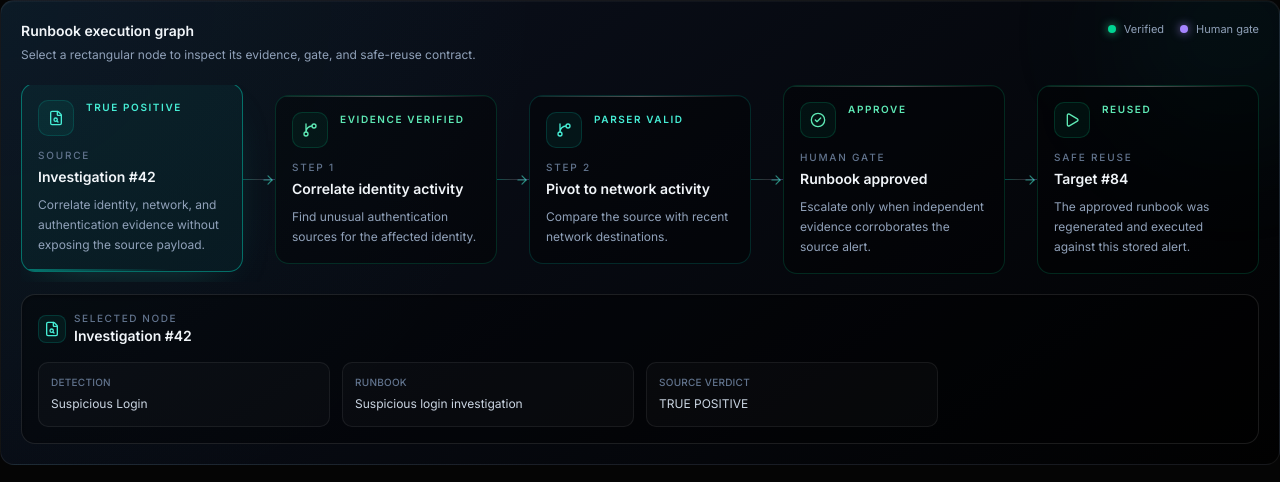
Scenario: RunbookFlowGraph › updates the gate and target nodes after an approved reuse
This screenshot has width=1280, height=482.
Expected: the button with aria-label "Human gate: Runbook approved" is shown, [783, 85, 1005, 274]
Click the button with aria-label "Safe reuse: Target #84" at (1148, 180), box [1037, 85, 1259, 274]
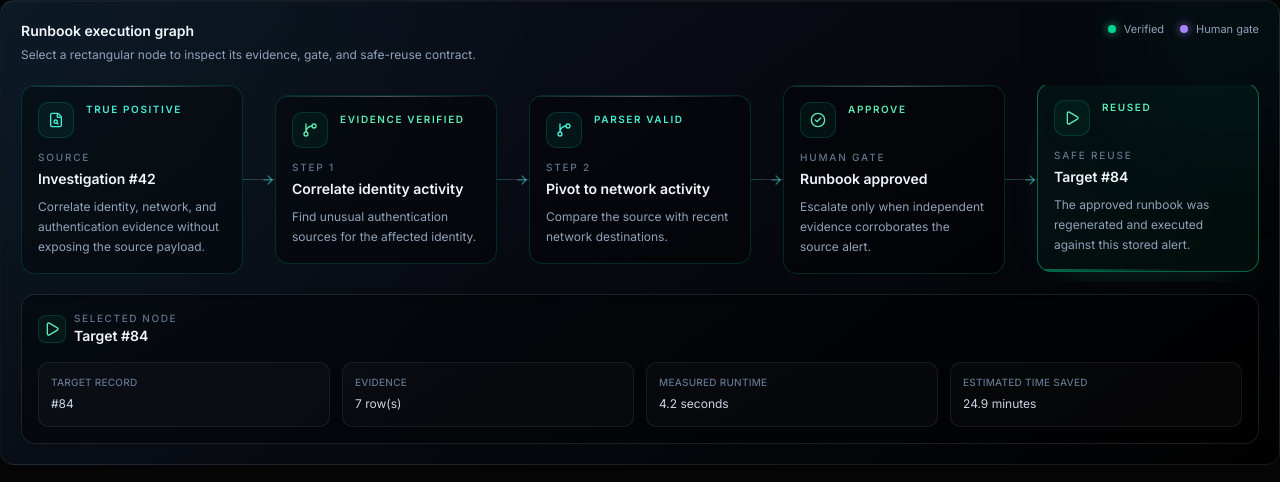
Expected: the text "24.9 minutes" is shown, [963, 396, 1036, 411]
